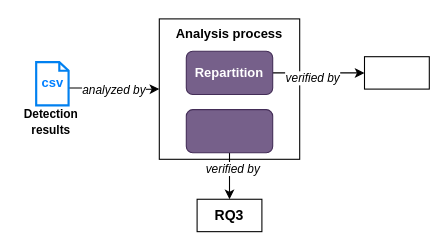
Some shapes in this 448 by 251 pixel diagram are drawn without their labels. Here are the shapes that lost their labels. From the top down, the box of each, then its label:
(363, 56, 429, 89): RQ2
(185, 109, 273, 153): Correlation matrix
